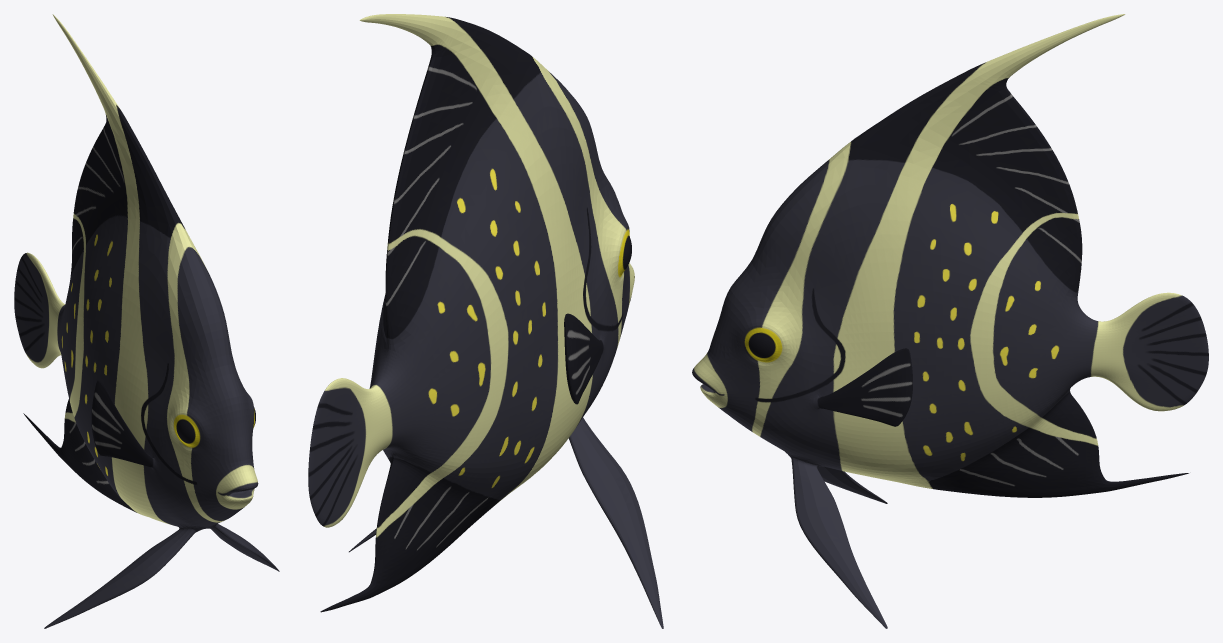
Rendered from AngelFish.gltf.
3 renders of one model, left to right at view 1: azimuth 30°, elevation 25°; view 2: azimuth 150°, elevation 25°; view 3: azimuth 270°, elevation 25°, orthographic. The views are drawn at different scales.
Size of the model in its own units: 0.77 by 1.58 by 1.34.
1 material, 1 textured.
